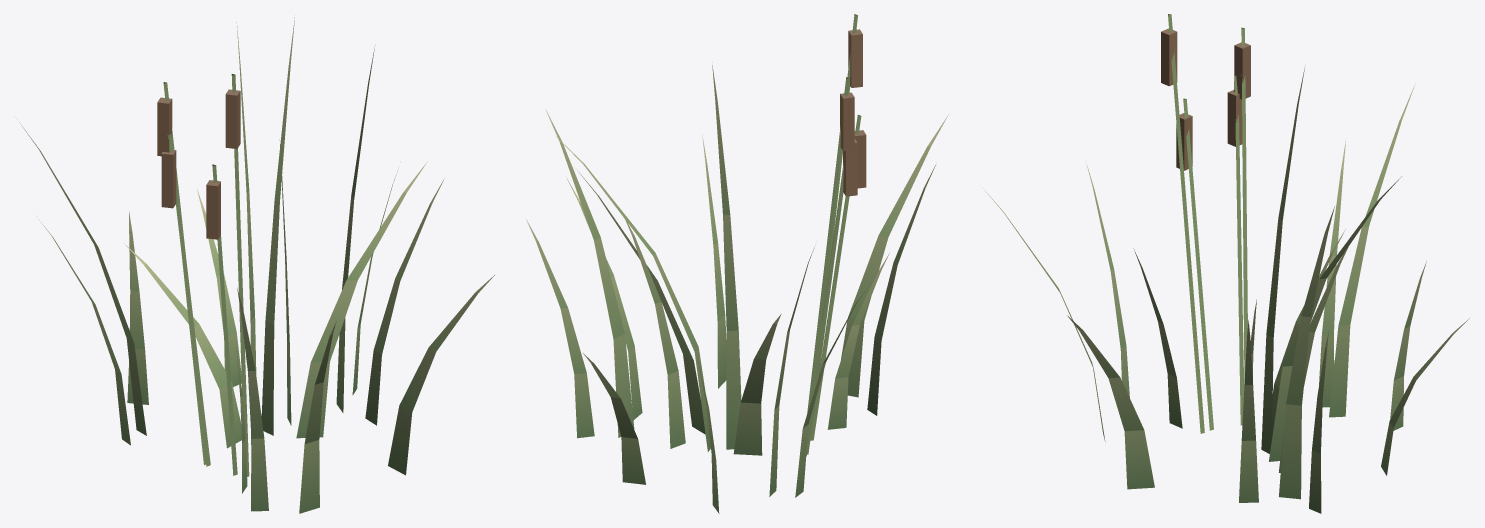
File: juncos_ligero.glb
3 views of the same model, side by side, from view 1: azimuth 30°, elevation 25°; view 2: azimuth 150°, elevation 25°; view 3: azimuth 270°, elevation 25° (orthographic). The views are drawn at different scales.
Parts seen in each view (by area): view 1: juncos; view 2: juncos; view 3: juncos.
Boxes of the visible parts, x1,y1,x2,y2 form: juncos: [19, 17, 494, 513]; juncos: [526, 14, 948, 513]; juncos: [980, 14, 1469, 513].
Size of the model in its own units: 1.7 by 1.9 by 2.09.
